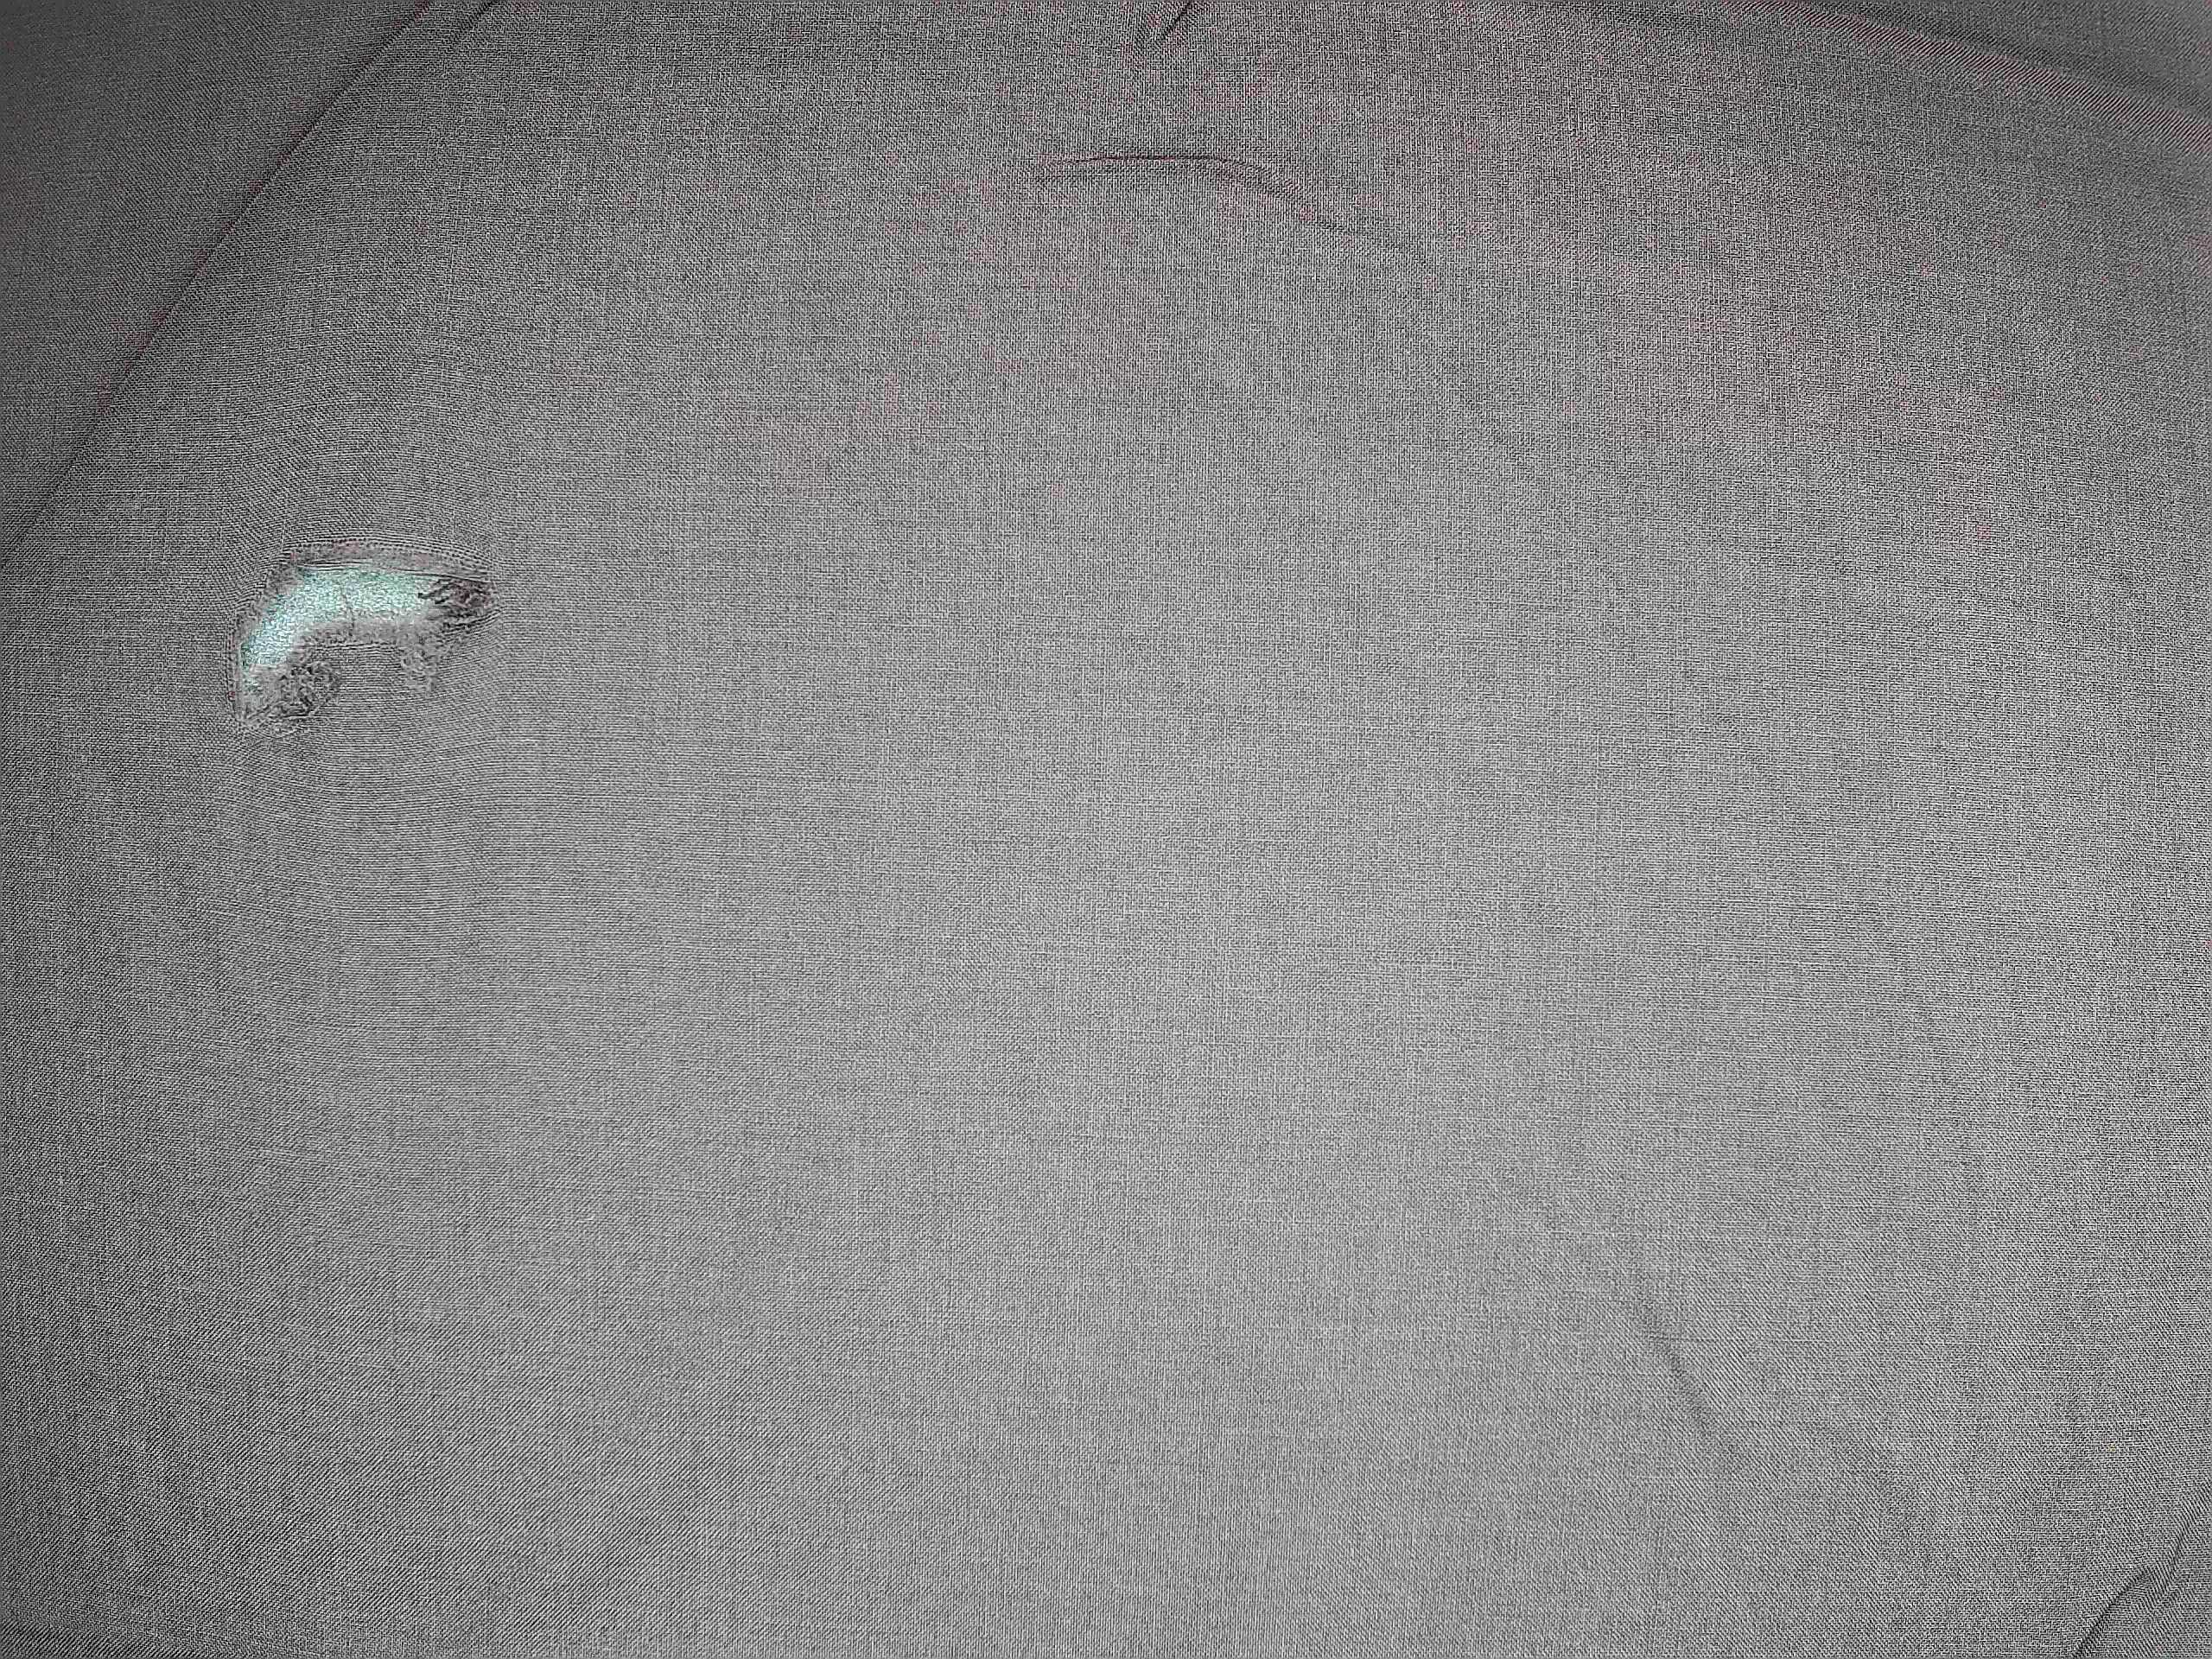rubbing-hole: (185, 477, 523, 770)
